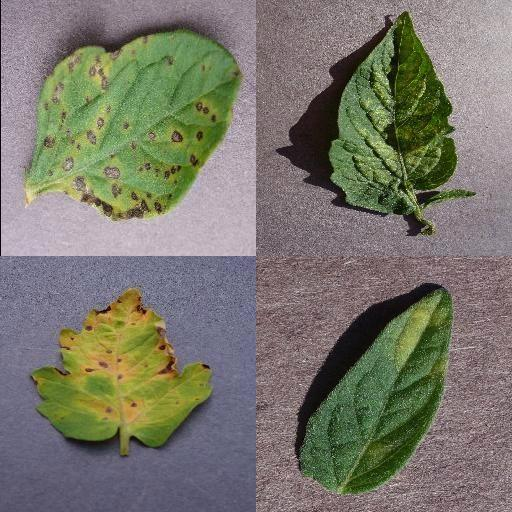Leaf Mold: (301, 288, 454, 494)
Septoria: (27, 33, 243, 223), (30, 287, 212, 449)
Spider Mites: (329, 9, 457, 217)
